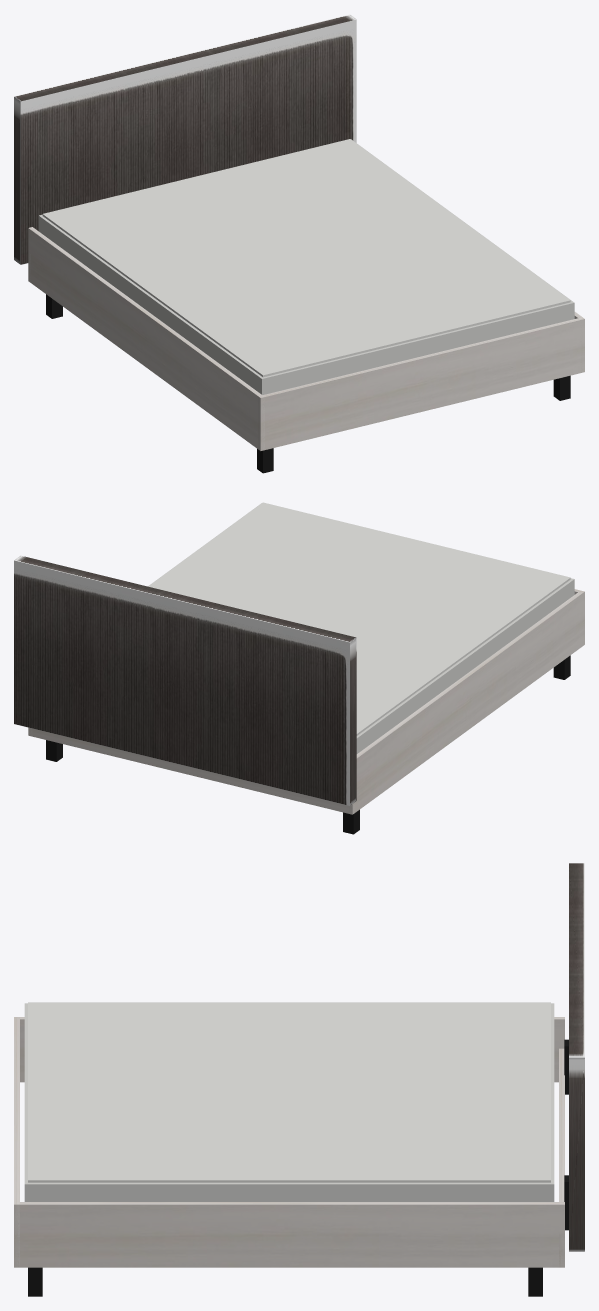
The model's file is nubia.glb.
3 views of the same model, one above another, from view 1: azimuth 30°, elevation 25°; view 2: azimuth 150°, elevation 25°; view 3: azimuth 270°, elevation 25° (orthographic). The views are drawn at different scales.
Visible parts, largest first — view 1: krevet; view 2: krevet; view 3: krevet.
Boxes of the visible parts, bbox=[...] form: krevet: bbox=[14, 14, 584, 473]; krevet: bbox=[14, 502, 584, 834]; krevet: bbox=[14, 863, 584, 1296].
Size of the model in its own units: 1.72 by 1.02 by 2.13.
Materials: 7 (2 with a texture image).
